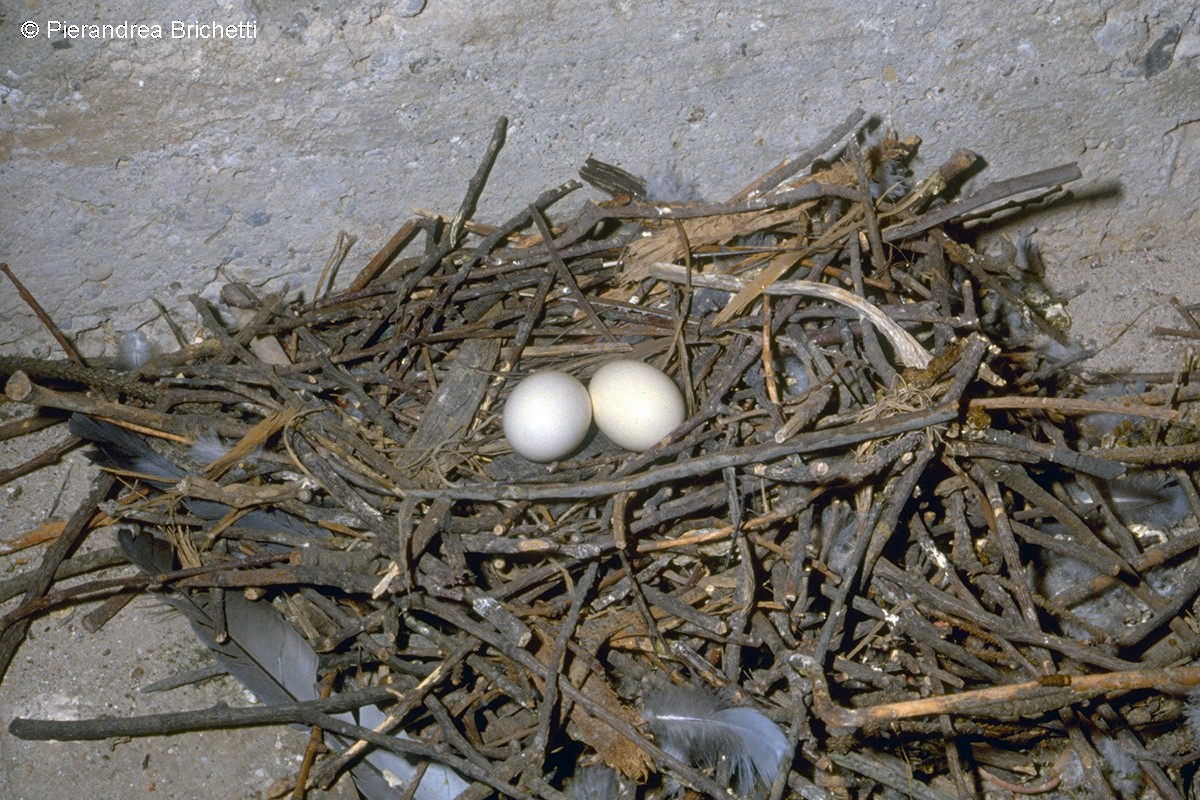pigeon: (393, 247, 806, 550)
